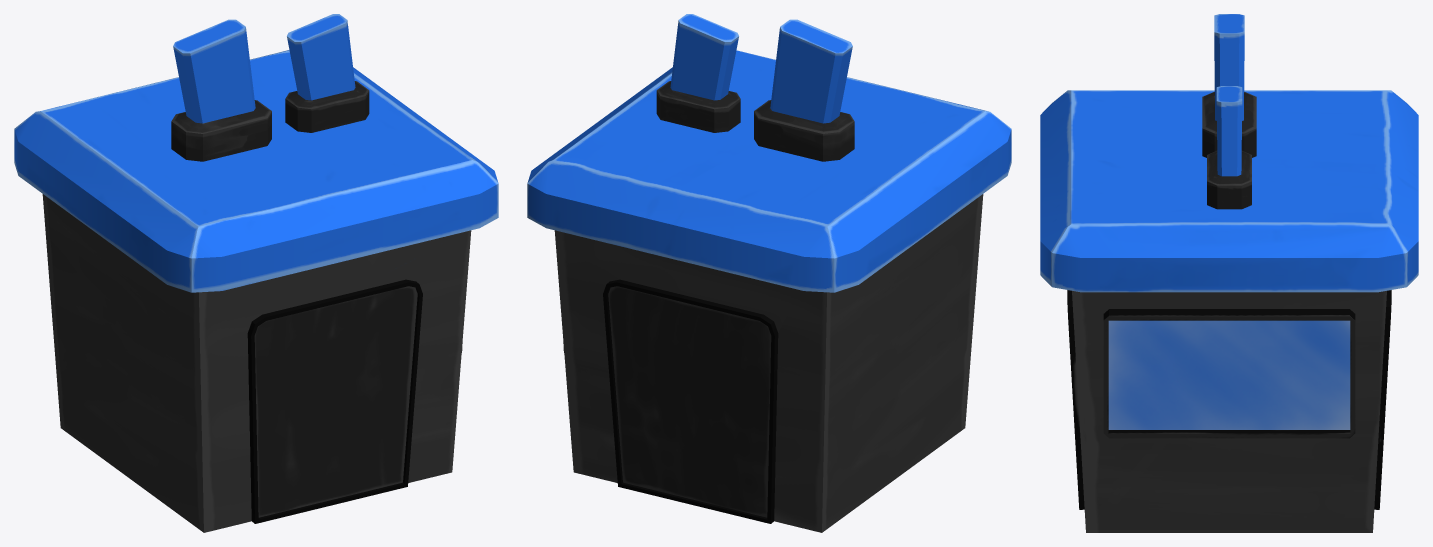
File: SM_Cabin.fbx
3 renders of one model, left to right at view 1: azimuth 30°, elevation 25°; view 2: azimuth 150°, elevation 25°; view 3: azimuth 270°, elevation 25°, orthographic.
Parts seen in each view (by area): view 1: Cube; view 2: Cube; view 3: Cube.
Boxes of the visible parts, box(x1,y1,x2,y2) form: Cube: box(14, 14, 498, 532); Cube: box(527, 14, 1011, 532); Cube: box(1040, 14, 1418, 532).
Bounding box in the file's own units: 129 × 162 × 129.
